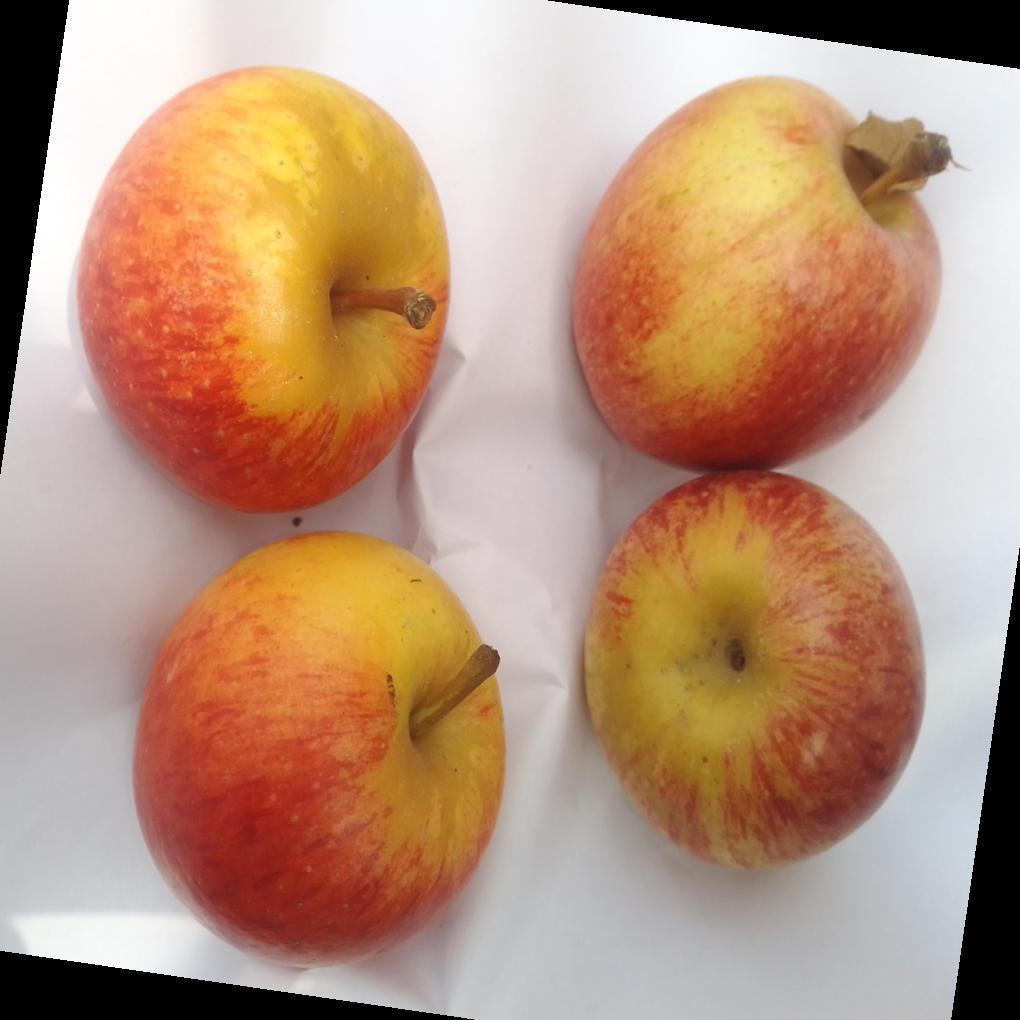FreshGuava: (569, 75, 954, 876), (72, 68, 451, 518), (132, 532, 506, 961)
